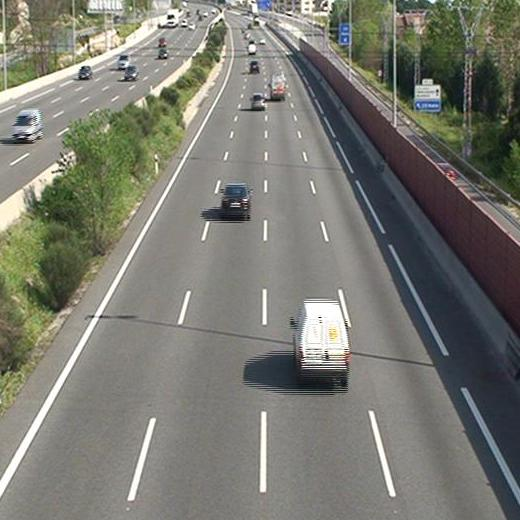car: (220, 184, 249, 216), (251, 92, 264, 109), (249, 61, 258, 71)
van: (293, 301, 349, 377), (269, 76, 284, 99), (248, 44, 256, 55)
